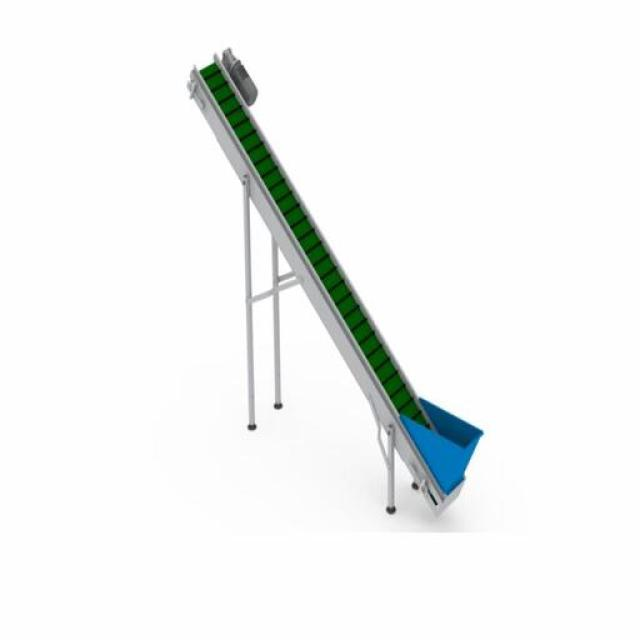conveyor: (197, 62, 436, 426)
